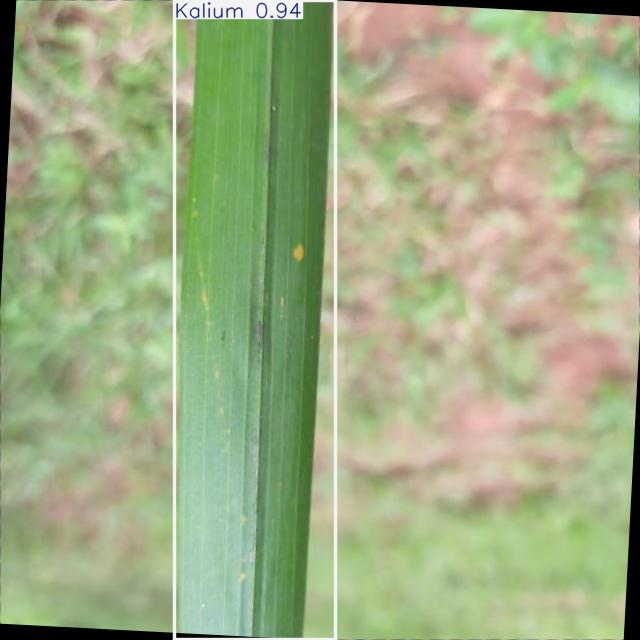Kalium: (175, 0, 336, 640)
